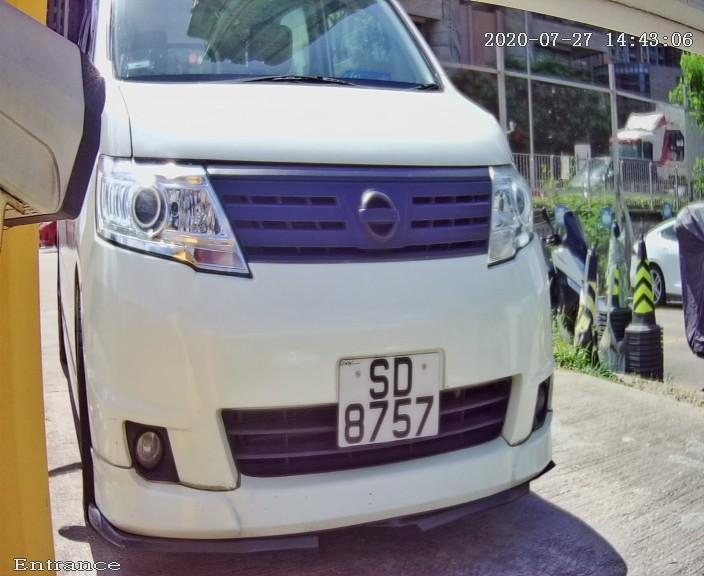privatecar: (63, 19, 573, 546)
